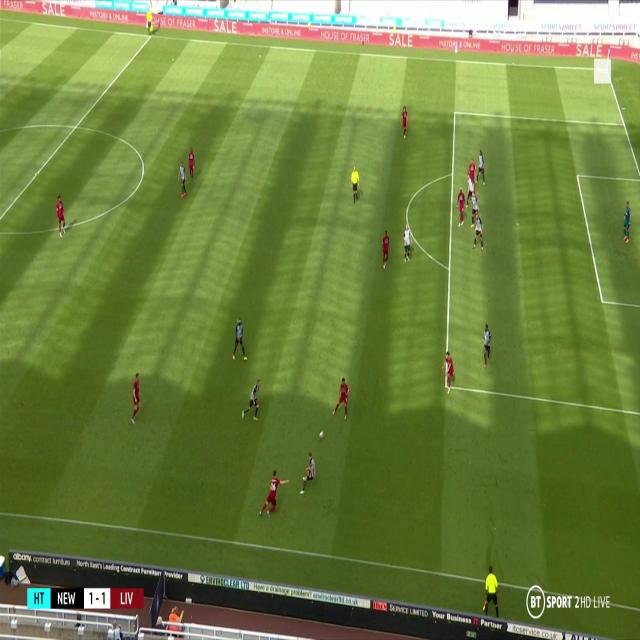ball: (318, 429, 324, 442)
player: (257, 470, 289, 518), (480, 559, 505, 617), (242, 378, 263, 424), (298, 449, 317, 497), (128, 369, 144, 424), (332, 378, 348, 423), (232, 318, 248, 363), (619, 198, 634, 246), (443, 350, 456, 398), (348, 164, 362, 206), (55, 192, 67, 238), (481, 324, 493, 369), (400, 224, 412, 263), (473, 215, 485, 252), (465, 172, 477, 208), (176, 159, 187, 198), (456, 186, 466, 228), (469, 194, 481, 228), (468, 157, 478, 196), (381, 229, 390, 271), (476, 149, 486, 186), (399, 104, 408, 140), (187, 147, 196, 182), (146, 7, 153, 36)
